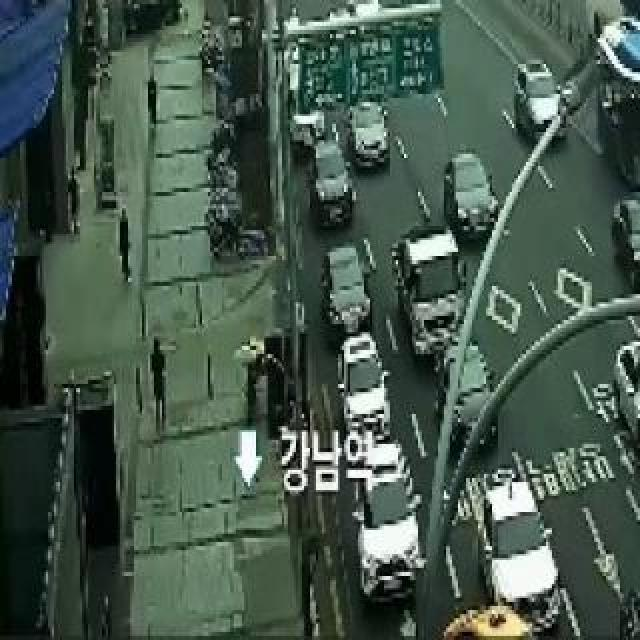truck: (378, 223, 482, 377)
